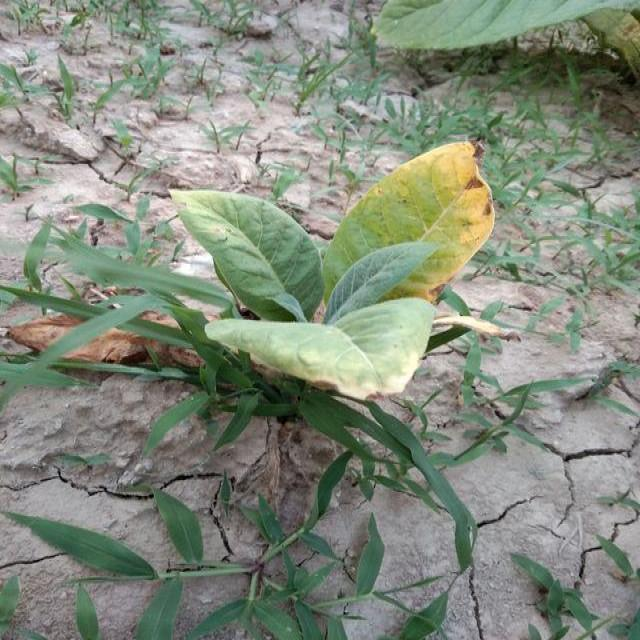crop: (185, 163, 492, 406), (369, 0, 639, 52)
